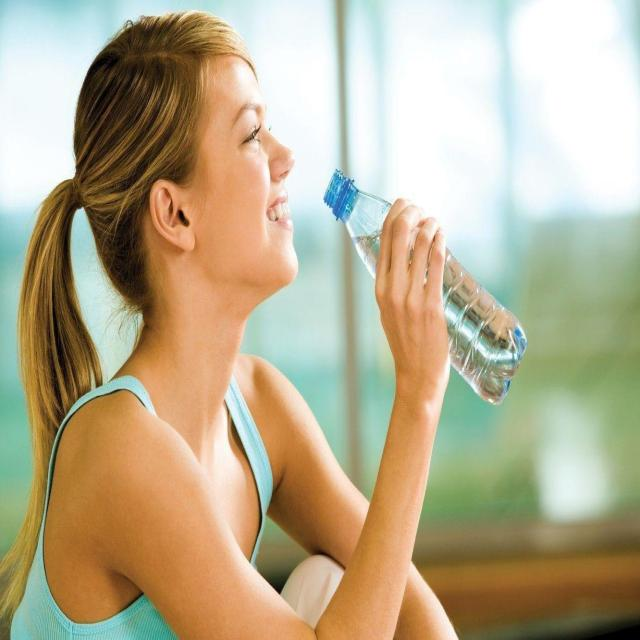bottle-plastic: (323, 167, 526, 404)
